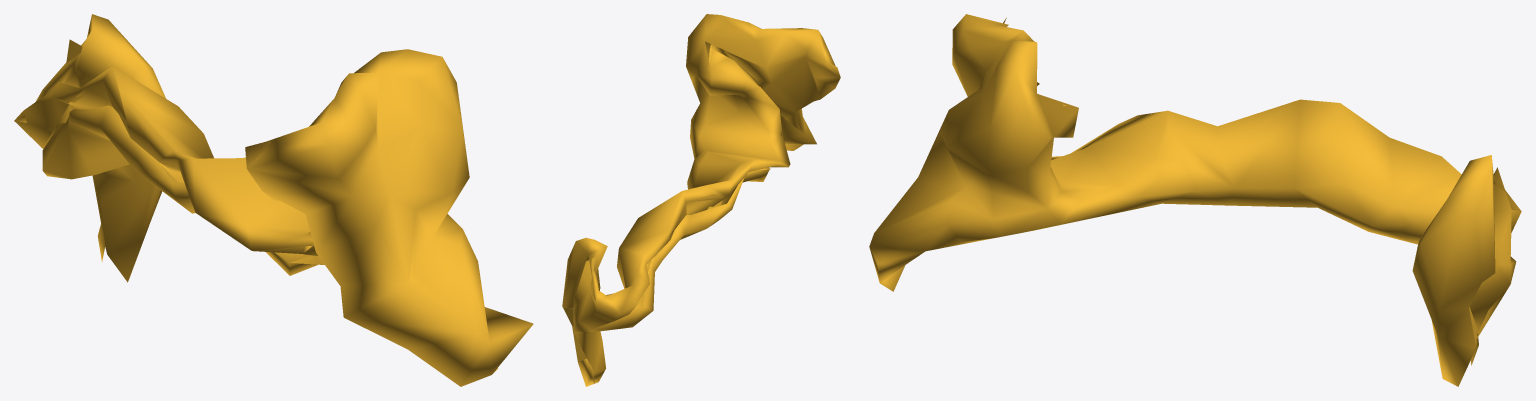
The model's file is nervoso-calcarine-sulcus-l.glb.
3 views of the same model, side by side, from view 1: azimuth 30°, elevation 25°; view 2: azimuth 150°, elevation 25°; view 3: azimuth 270°, elevation 25° (orthographic). The views are drawn at different scales.
Visible parts, largest first — view 1: Calcarine sulcus.l; view 2: Calcarine sulcus.l; view 3: Calcarine sulcus.l.
Part boxes in pixels (x1,y1,x2,y2): Calcarine sulcus.l: (14,14,533,386); Calcarine sulcus.l: (562,14,840,386); Calcarine sulcus.l: (869,14,1521,386).
Size of the model in its own units: 0.0195 by 0.0331 by 0.0555.
